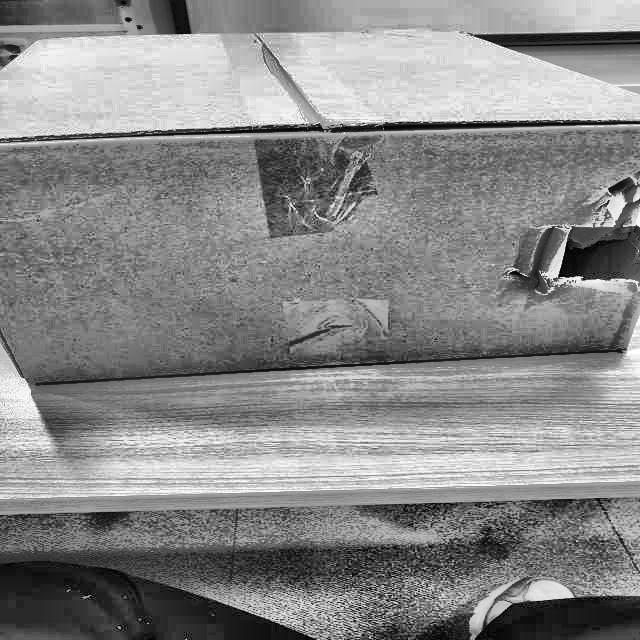box: (0, 23, 639, 398)
hole: (502, 176, 640, 298)
